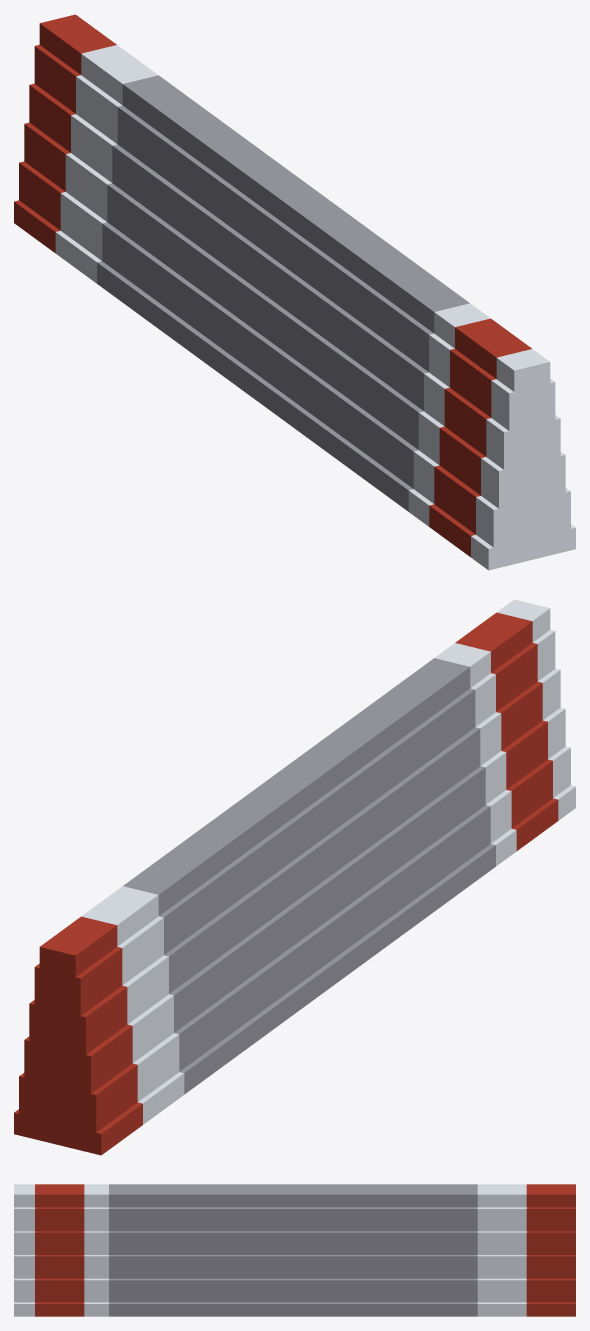
File: barrier_hard_0.obj
The picture shows the model from 3 angles, top to bottom: view 1: azimuth 30°, elevation 25°; view 2: azimuth 150°, elevation 25°; view 3: azimuth 270°, elevation 25°; orthographic projection. The views are drawn at different scales.
Bounding box in the file's own units: 0.425 × 0.9 × 4.
Materials: 1 (1 with a texture image).
